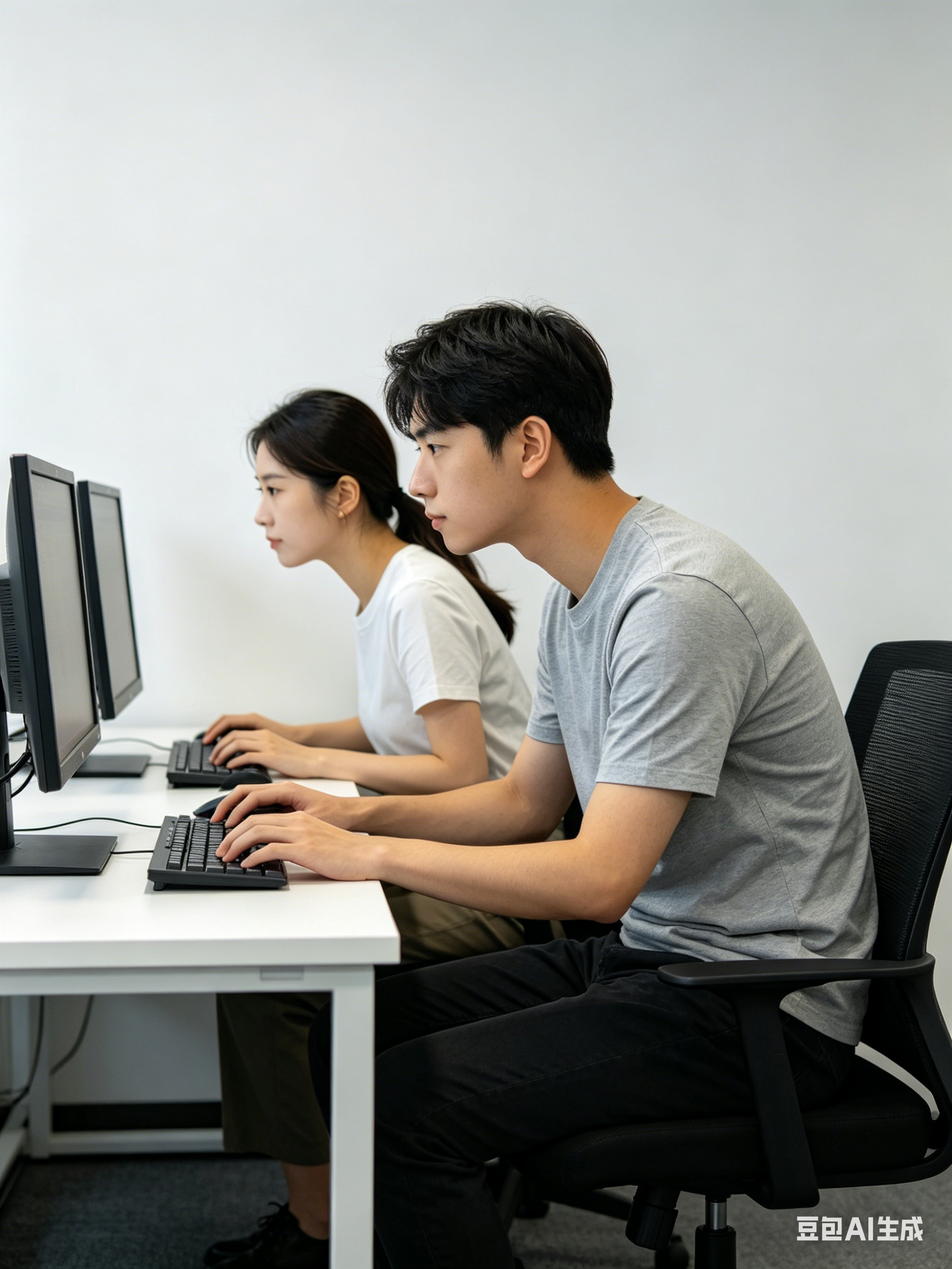sitting_bad: (362, 294, 900, 1027), (209, 382, 544, 844)
